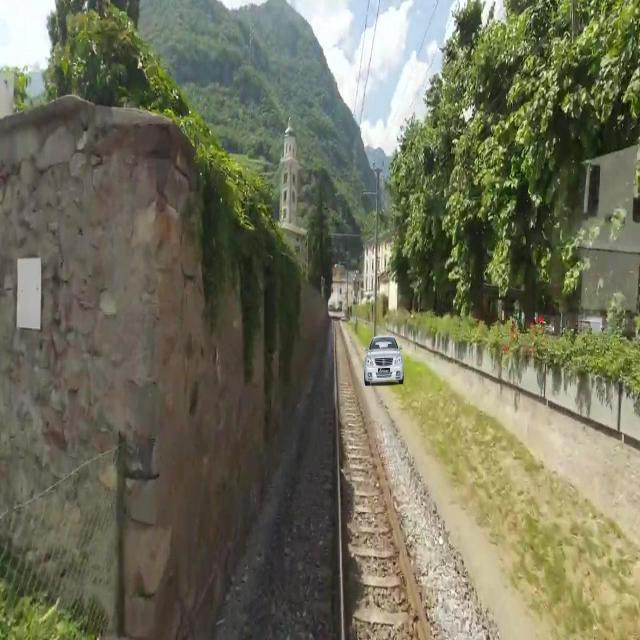danger: (355, 329, 415, 392)
rail: (305, 315, 455, 637)
